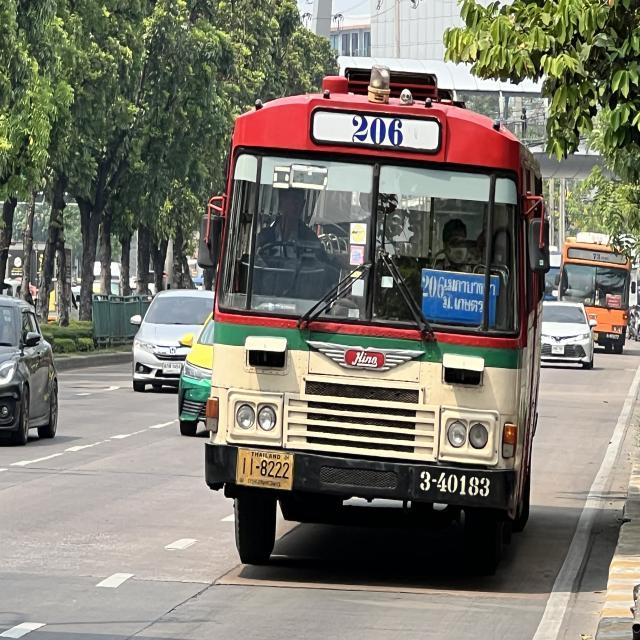BMTA-bus: (201, 59, 555, 580), (555, 230, 634, 352)
Bus-Line-Number: (342, 108, 409, 152), (590, 252, 611, 261)
Destination-Sign-Extra-Bus: (605, 294, 622, 309)
Destination-Sign-Normal: (417, 264, 499, 330)
